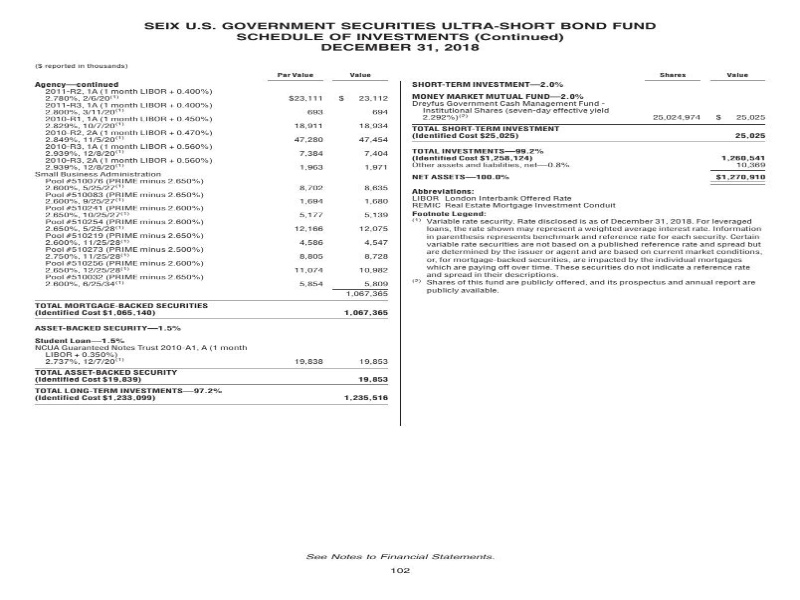table: (392, 59, 788, 430), (25, 53, 407, 433)
